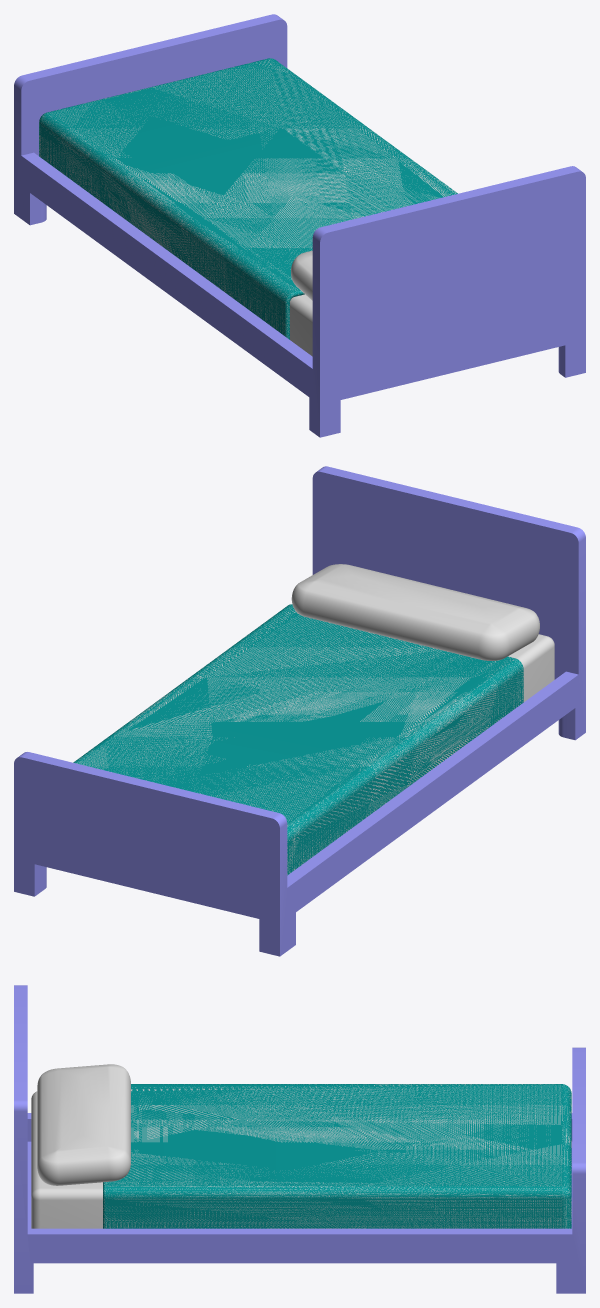
Rendered from Bed.dae.
3 views of the same model, one above another, from view 1: azimuth 30°, elevation 25°; view 2: azimuth 150°, elevation 25°; view 3: azimuth 270°, elevation 25° (orthographic). The views are drawn at different scales.
Parts seen in each view (by area): view 1: SketchUp (×4); view 2: SketchUp (×4); view 3: SketchUp (×5).
Boxes of the visible parts, bbox=[...] form: SketchUp (×4): bbox=[14, 14, 585, 437]; SketchUp (×4): bbox=[14, 466, 585, 956]; SketchUp (×5): bbox=[14, 985, 585, 1293].
Size of the model in its own units: 448 by 892 by 327.
